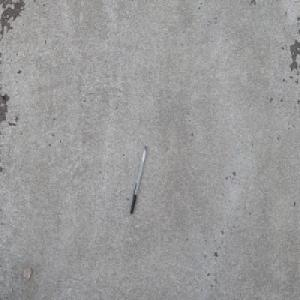Pen: (129, 145, 147, 214)
